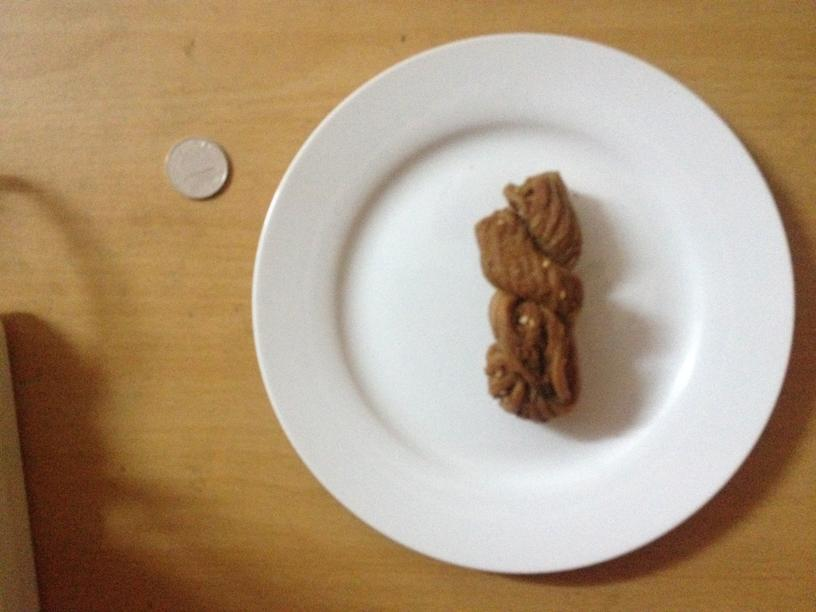coin: (163, 138, 229, 197)
fired_dough_twist: (476, 168, 584, 419)
